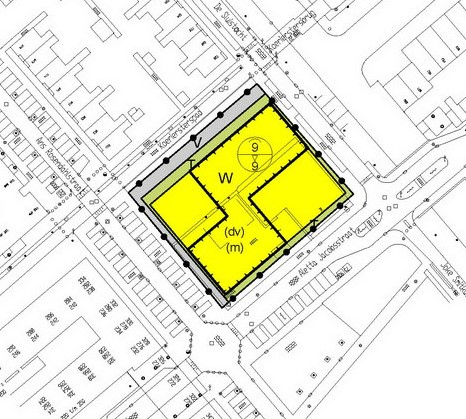Bestemming: (215, 168, 238, 187)
Bouwhoogte: (248, 141, 261, 153)
Goothoogte: (251, 161, 260, 171)
Waardes: (235, 137, 273, 172)
